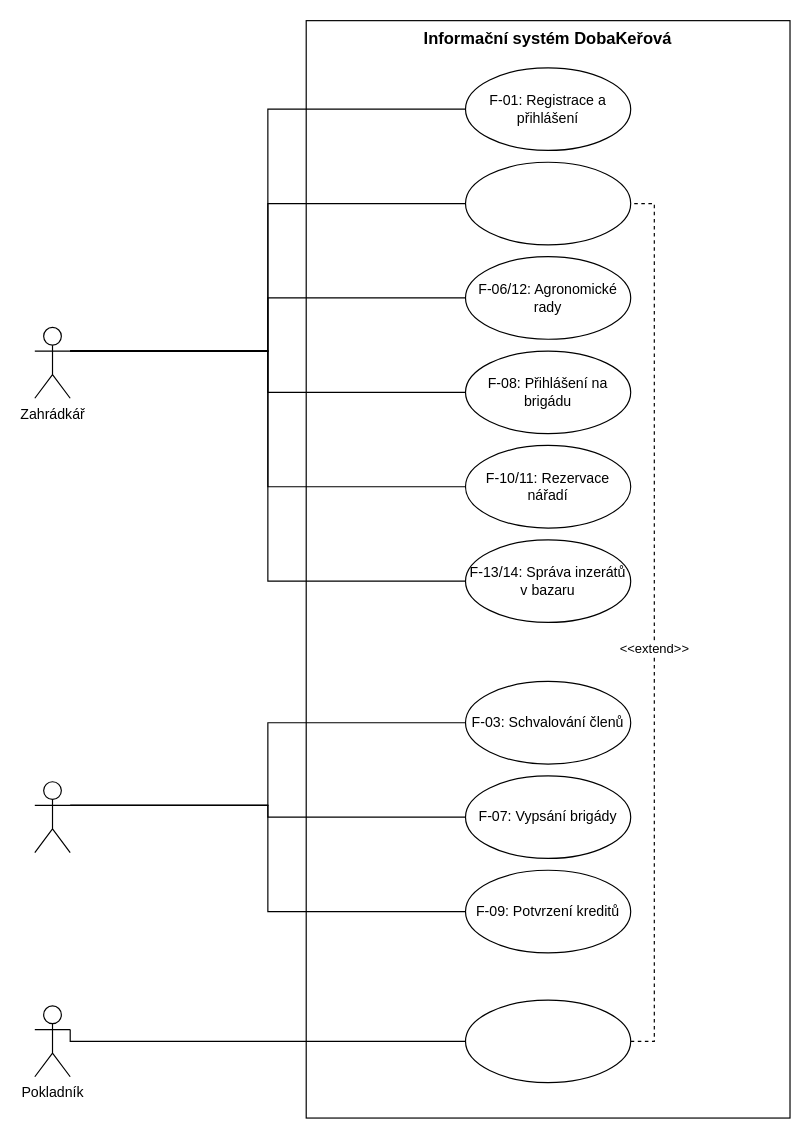
The diagram is 811 pixels wide and 1148 high, and some of its shapes have lost their labels. The centre of each missing label's shape, as x and y in pixels:
F-04/05: Rezervace záhonu: (547,203)
Správce: (52,817)
Zaznamenání platby za záhon: (547,1041)
